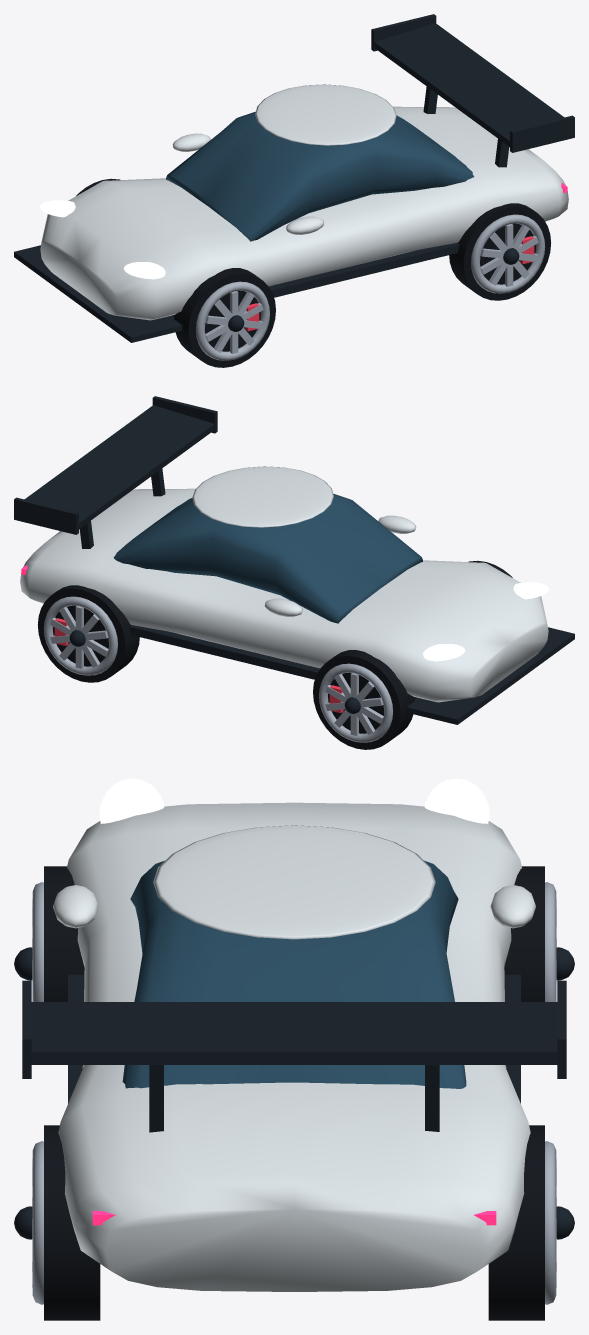
Rendered from gt-class-demo.glb.
3 renders of one model, top to bottom at view 1: azimuth 30°, elevation 25°; view 2: azimuth 150°, elevation 25°; view 3: azimuth 270°, elevation 25°, orthographic. The views are drawn at different scales.
Visible parts, largest first — view 1: body_main, glass_cabin, wing, body_roof, tire_-1.48_1.07, tire_1.47_1.07, splitter, side_skirt_0.78, wheel_ring_1.47_1.07, wheel_ring_-1.48_1.07, wing_end_0.78, wing_end_-0.78 (+4 smaller); view 2: body_main, glass_cabin, wing, body_roof, tire_-1.48_-1.07, tire_1.47_-1.07, splitter, side_skirt_-0.78, wheel_ring_1.47_-1.07, wheel_ring_-1.48_-1.07, wing_end_-0.78, wing_end_0.78 (+4 smaller); view 3: body_main, wing, glass_cabin, body_roof, tire_1.47_1.07, tire_1.47_-1.07, tire_-1.48_-1.07, tire_-1.48_1.07, headlight_-0.78, headlight_0.78, wheel_ring_1.47_-1.07, wheel_ring_1.47_1.07 (+10 smaller).
Boxes of the visible parts, left/top/right/bottom form: body_main: left=40, top=106, right=568, bottom=320; glass_cabin: left=166, top=111, right=474, bottom=241; wing: left=374, top=23, right=574, bottom=149; body_roof: left=255, top=84, right=396, bottom=145; tire_-1.48_1.07: left=174, top=268, right=275, bottom=367; tire_1.47_1.07: left=449, top=203, right=550, bottom=300; splitter: left=14, top=245, right=182, bottom=342; side_skirt_0.78: left=269, top=243, right=459, bottom=297; wheel_ring_1.47_1.07: left=471, top=214, right=545, bottom=293; wheel_ring_-1.48_1.07: left=195, top=281, right=269, bottom=360; wing_end_0.78: left=510, top=115, right=574, bottom=152; wing_end_-0.78: left=371, top=14, right=436, bottom=51; body_main: left=20, top=488, right=548, bottom=702; glass_cabin: left=113, top=493, right=422, bottom=623; wing: left=14, top=405, right=214, bottom=531; body_roof: left=192, top=466, right=333, bottom=527; tire_-1.48_-1.07: left=313, top=650, right=414, bottom=749; tire_1.47_-1.07: left=38, top=585, right=139, bottom=682; splitter: left=406, top=627, right=574, bottom=724; side_skirt_-0.78: left=129, top=625, right=319, bottom=679; wheel_ring_1.47_-1.07: left=43, top=596, right=117, bottom=675; wheel_ring_-1.48_-1.07: left=319, top=663, right=393, bottom=742; wing_end_-0.78: left=14, top=497, right=78, bottom=534; wing_end_0.78: left=152, top=396, right=217, bottom=433; body_main: left=58, top=802, right=530, bottom=1291; wing: left=31, top=1002, right=557, bottom=1064; glass_cabin: left=122, top=860, right=466, bottom=1088; body_roof: left=153, top=825, right=435, bottom=939; tire_1.47_1.07: left=44, top=1125, right=100, bottom=1320; tire_1.47_-1.07: left=488, top=1125, right=544, bottom=1320; tire_-1.48_-1.07: left=504, top=866, right=544, bottom=1001; tire_-1.48_1.07: left=44, top=866, right=84, bottom=1001; headlight_-0.78: left=424, top=778, right=489, bottom=823; headlight_0.78: left=99, top=778, right=164, bottom=823; wheel_ring_1.47_-1.07: left=545, top=1141, right=556, bottom=1304; wheel_ring_1.47_1.07: left=32, top=1141, right=43, bottom=1304.
Size of the model in its own units: 4.79 by 1.75 by 2.7.
